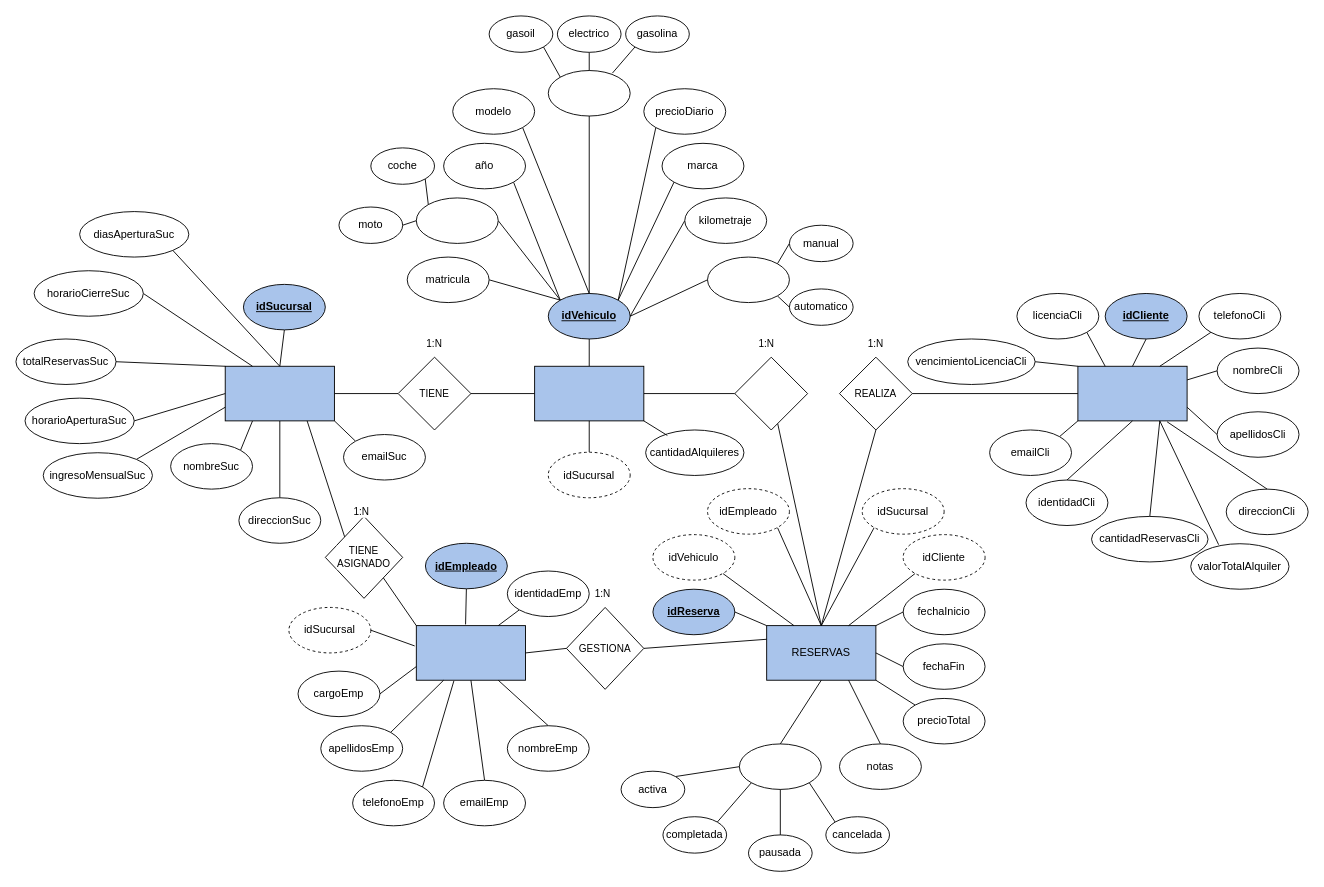
Image size: 1324x887. Some labels were removed from this diagram. Each missing label, with the centre of its shape:
ASIGNA: point 771,393
CLIENTES: point 1132,393
combustible: point 588,93
EMPLEADO: point 470,652
estado: point 779,766
SUCURSAL: point 279,393
tipo: point 456,220
transmision: point 748,279
VEHICULOS: point 589,393
